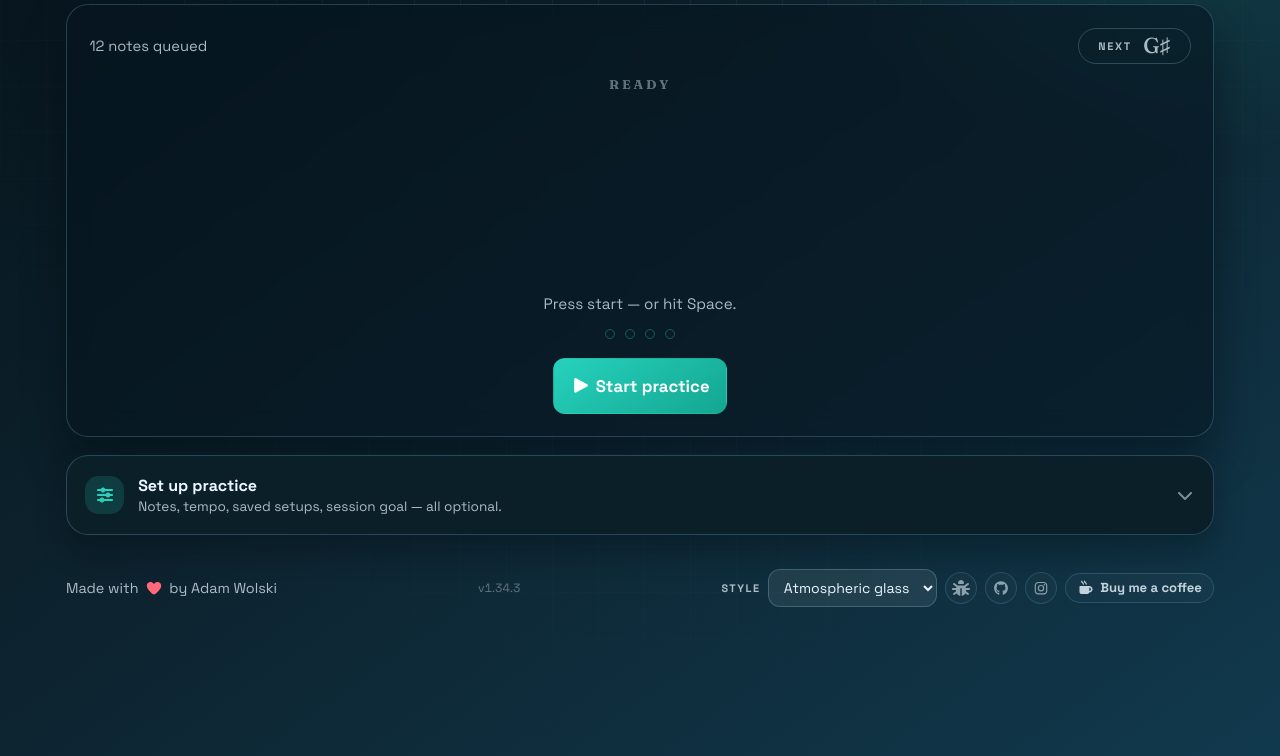
Test case: App integration › saves a setup but warns it is gone at closing time when localStorage is blocked
The width and height of the screenshot is (1280, 756).
# Blocked storage reads as a first run, so the setup cards are folded away.
Click the button with test id "setup-reveal" at (105, 495), box [66,455,1214,535]
(page scrolled)
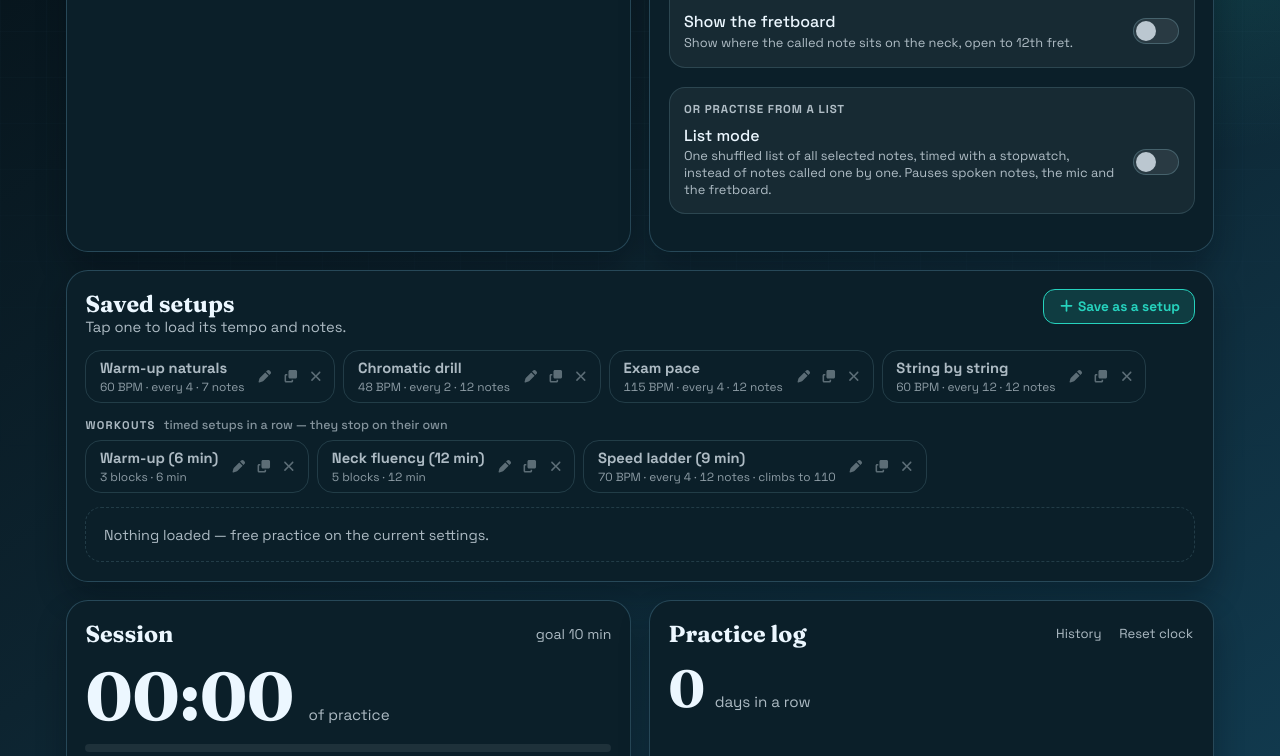
Click the button with test id "routine-save" at (1119, 307), box [1043,289,1195,324]
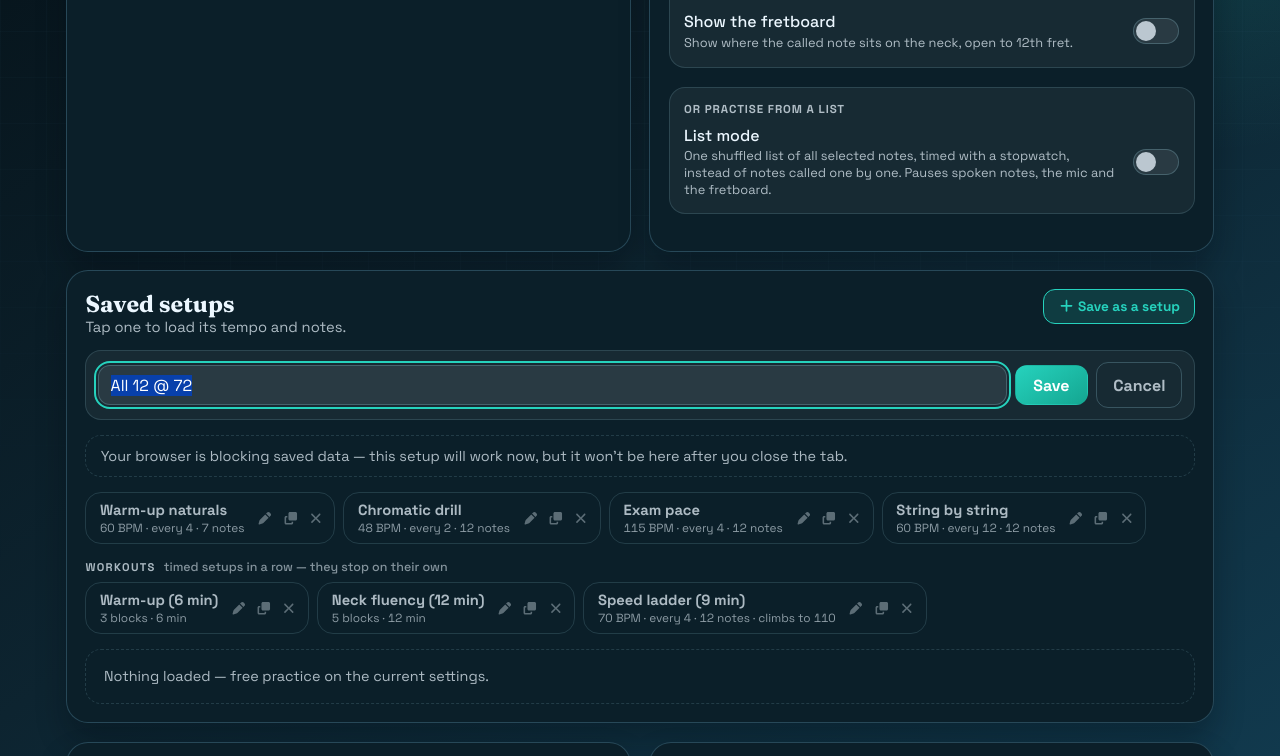
Replace the text in the field with test id "routine-name-input" with "Ephemeral test" at (552, 385), box [98,365,1007,406]
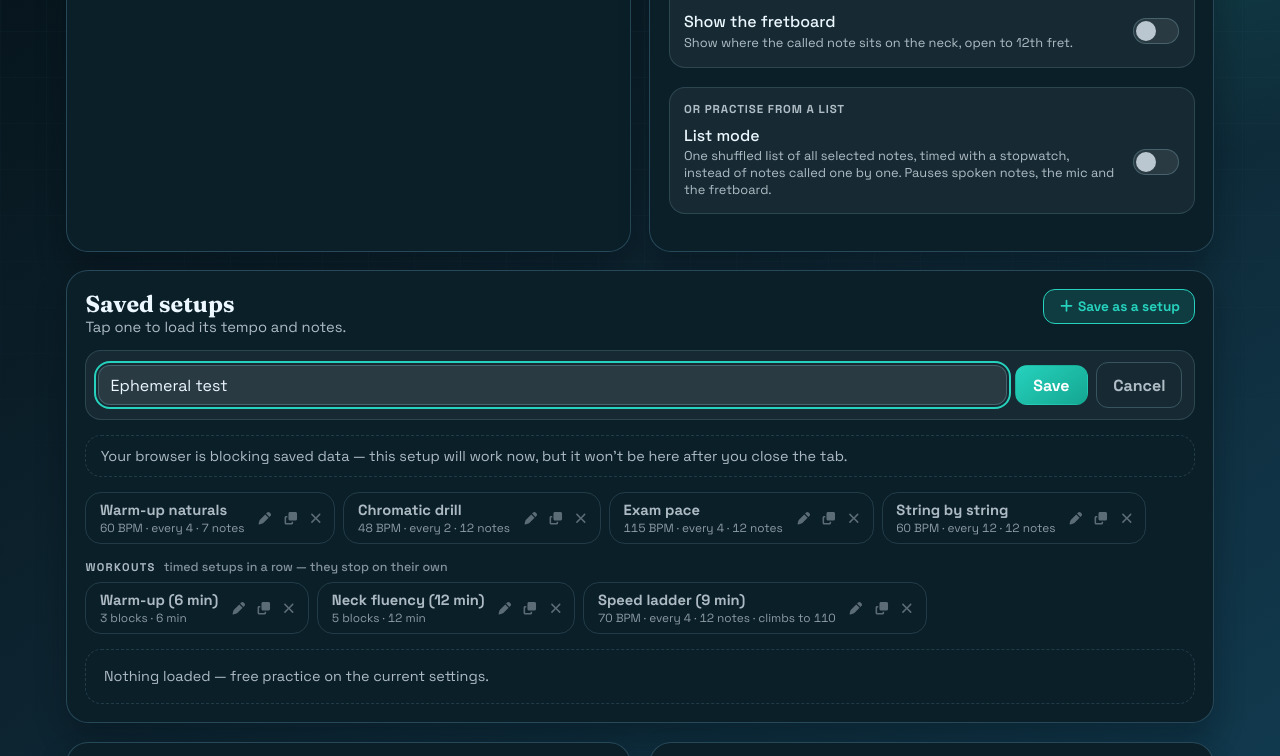
Click the button with test id "routine-save-confirm" at (1051, 385), box [1015,365,1088,406]
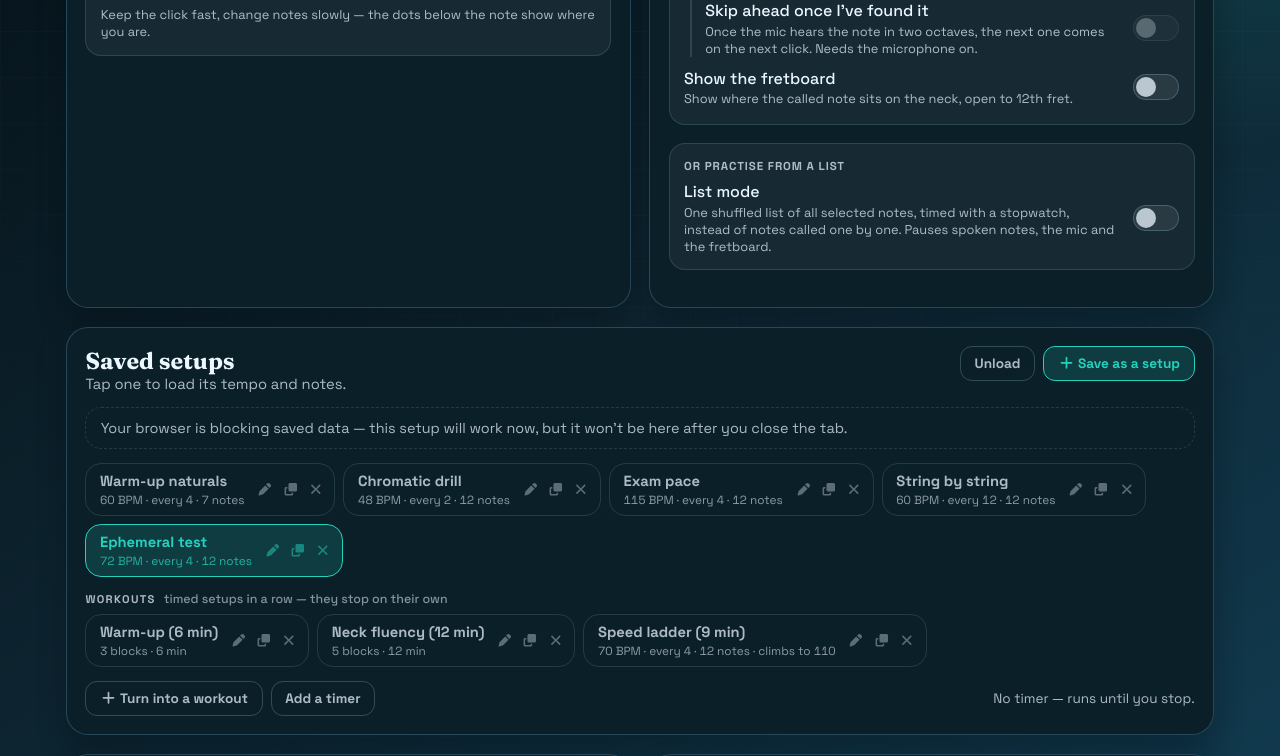
expect the text with test id "routine-ephemeral-notice" shows "close the tab": met, box [101,419,848,437]
expect the element with test id "routine-shelf" shows "Ephemeral test": met, box [86,525,258,576]
